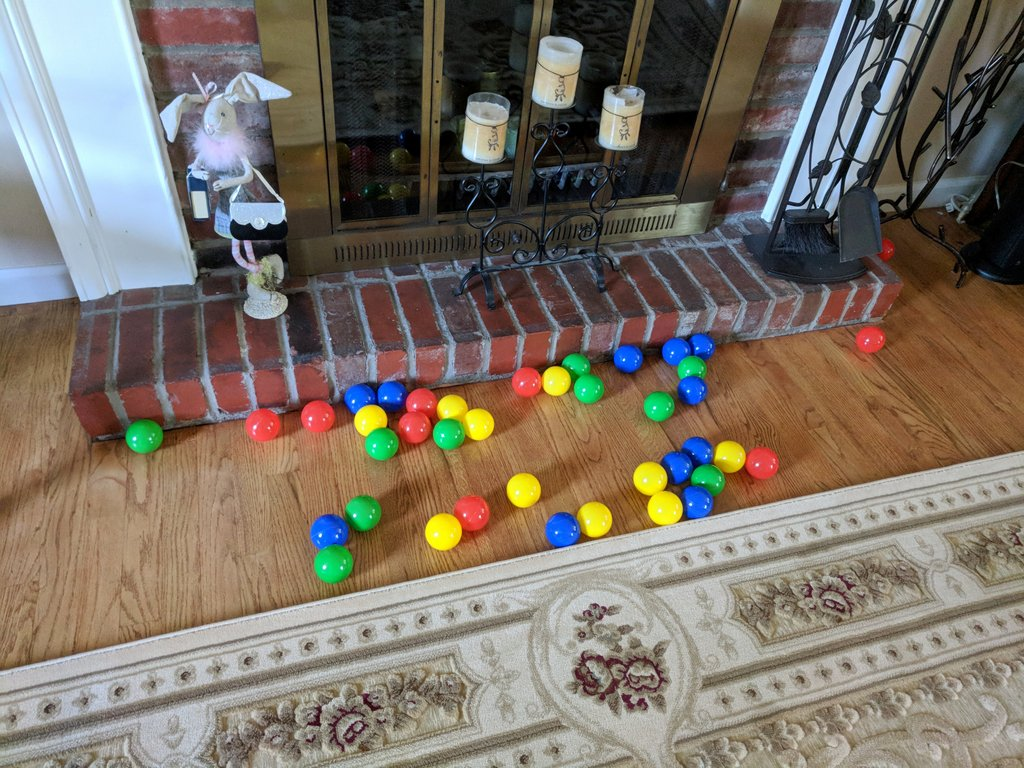ball: (661, 451, 693, 486)
